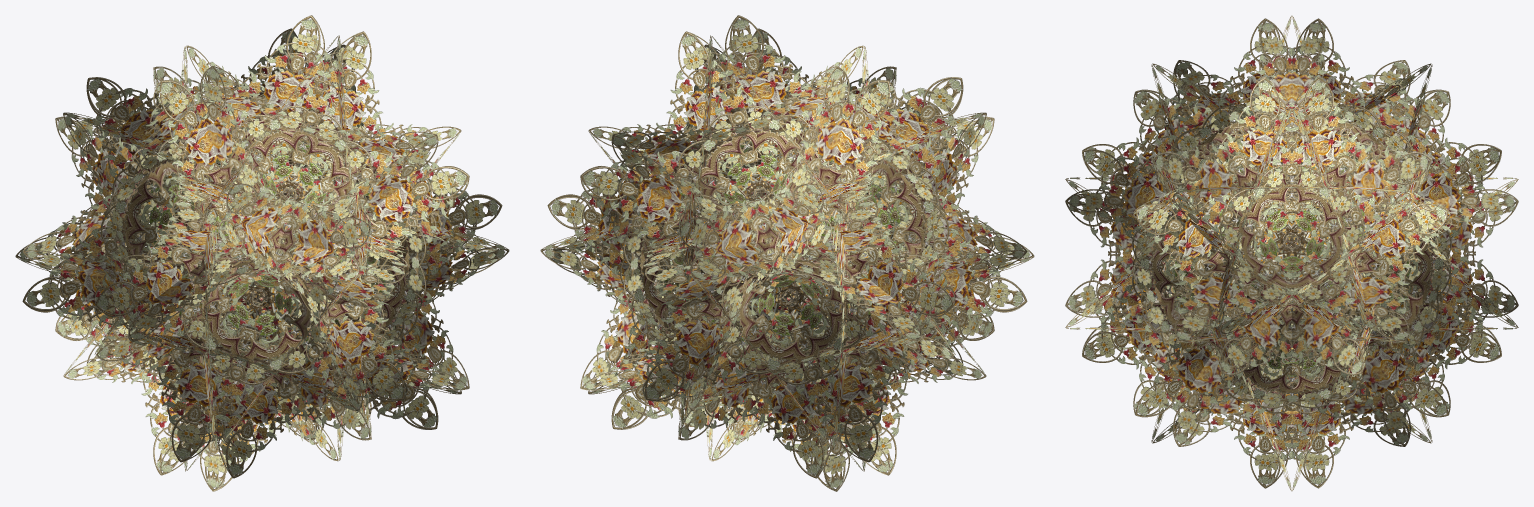
The model's file is TruncatedGreatIcosahedron9.gltf.
3 renders of one model, left to right at view 1: azimuth 30°, elevation 25°; view 2: azimuth 150°, elevation 25°; view 3: azimuth 270°, elevation 25°, orthographic. The views are drawn at different scales.
Parts seen in each view (by area): view 1: TruncatedGreatIcosahedron; view 2: TruncatedGreatIcosahedron; view 3: TruncatedGreatIcosahedron.
Boxes of the visible parts, bbox=[...] form: TruncatedGreatIcosahedron: bbox=[15, 15, 509, 491]; TruncatedGreatIcosahedron: bbox=[540, 15, 1034, 491]; TruncatedGreatIcosahedron: bbox=[1065, 15, 1518, 491].
Size of the model in its own units: 2 by 2 by 2.
Materials: 1 (1 with a texture image).
